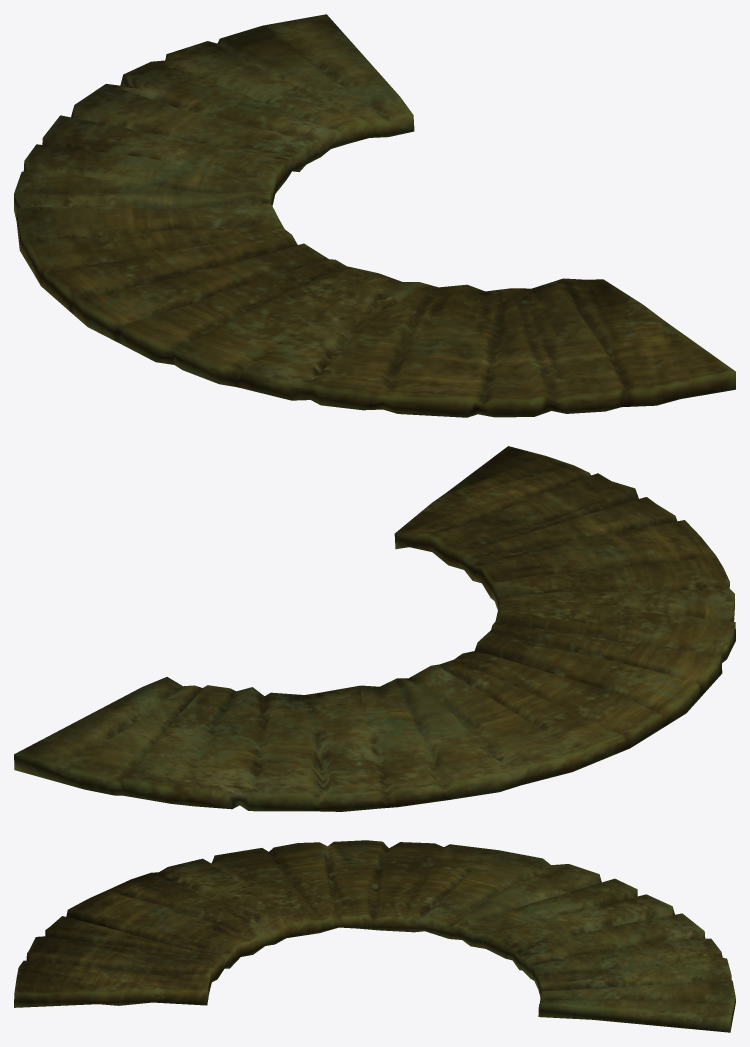
Rendered from SM_half_platform.fbx.
3 renders of one model, top to bottom at view 1: azimuth 30°, elevation 25°; view 2: azimuth 150°, elevation 25°; view 3: azimuth 270°, elevation 25°, orthographic. The views are drawn at different scales.
Visible parts, largest first — view 1: half_platform; view 2: half_platform; view 3: half_platform.
Boxes of the visible parts, box(x1,y1,x2,y2) form: half_platform: box(14, 14, 735, 417); half_platform: box(14, 446, 735, 811); half_platform: box(14, 840, 735, 1032).
Size of the model in its own units: 938 by 55.93 by 1599.
